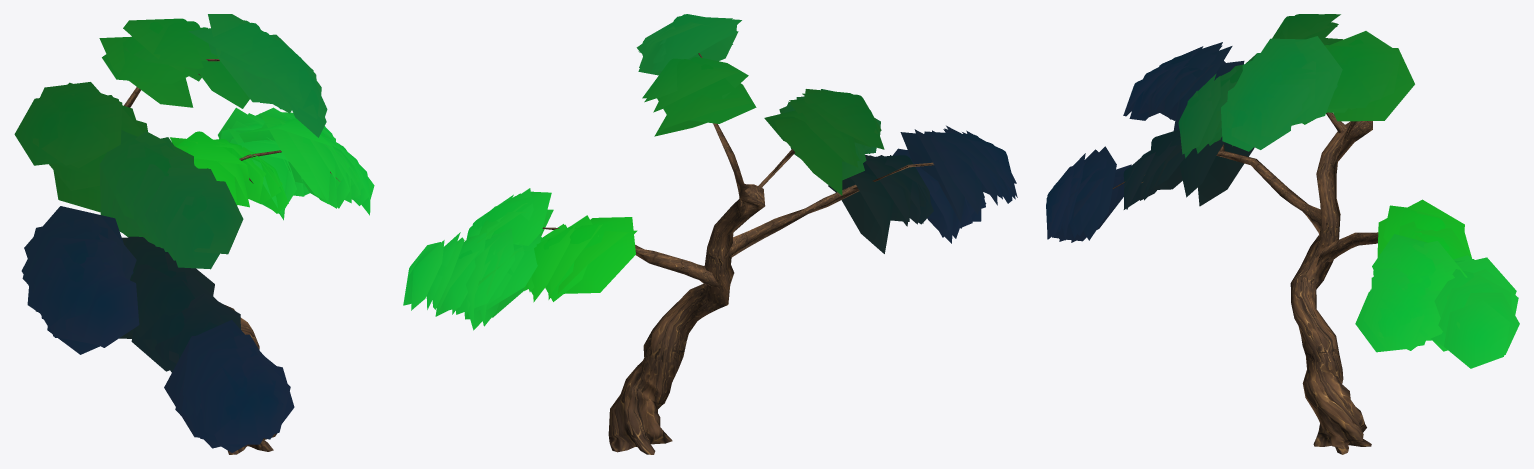
File: FantasyTree9.fbx
The picture shows the model from 3 angles, left to right: view 1: azimuth 30°, elevation 25°; view 2: azimuth 150°, elevation 25°; view 3: azimuth 270°, elevation 25°; orthographic projection. The views are drawn at different scales.
Visible parts, largest first — view 1: fantasyleaf1_alpha_1, tree2_0; view 2: fantasyleaf1_alpha_1, tree2_0; view 3: fantasyleaf1_alpha_1, tree2_0.
Boxes of the visible parts, <box> form: fantasyleaf1_alpha_1: <box>14,14,374,452</box>; tree2_0: <box>124,59,339,454</box>; fantasyleaf1_alpha_1: <box>403,14,1017,330</box>; tree2_0: <box>542,53,933,454</box>; fantasyleaf1_alpha_1: <box>1046,14,1519,368</box>; tree2_0: <box>1112,112,1378,454</box>.
Size of the model in its own units: 995 by 903 by 1010.
1 material, 1 textured.
